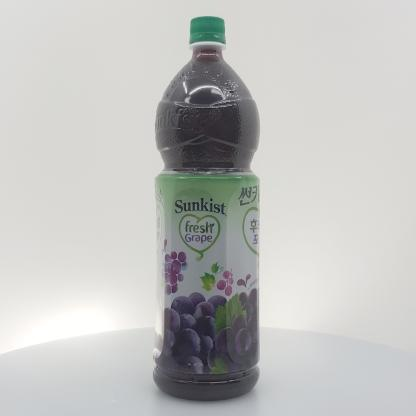-------50_1-5L: (153, 16, 260, 401)
